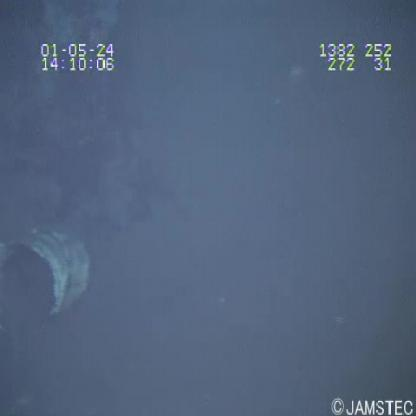Rác: (2, 211, 98, 330)
